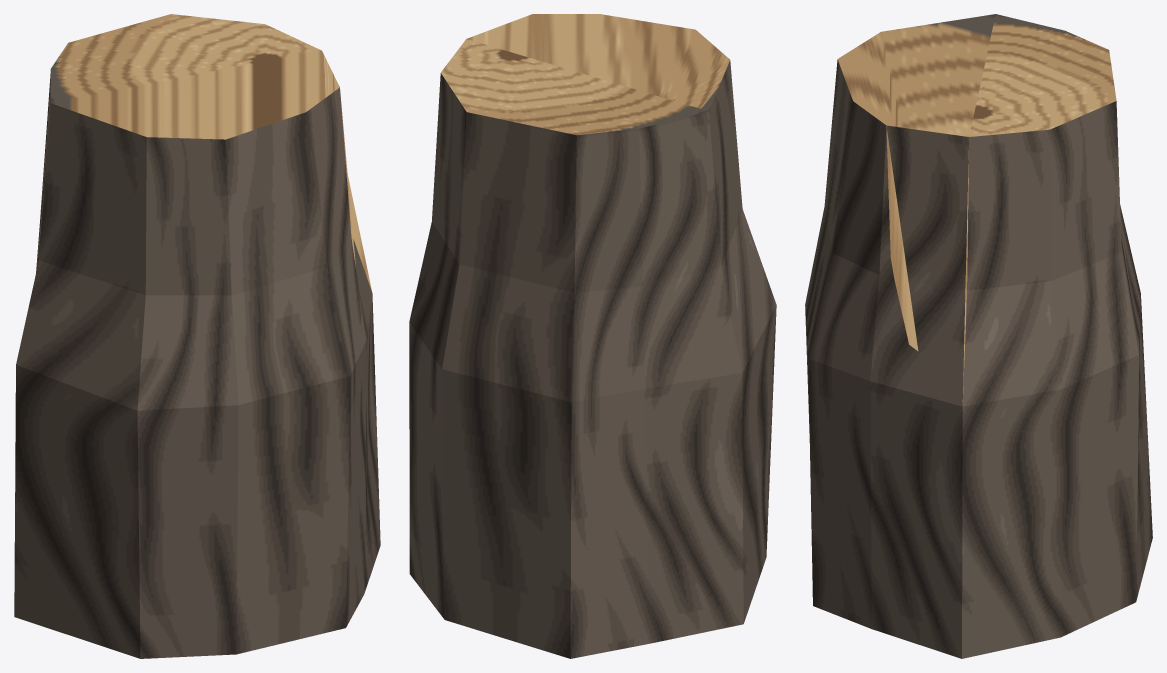
File: environment_fir3_stump_v1.fbx
3 renders of one model, left to right at view 1: azimuth 30°, elevation 25°; view 2: azimuth 150°, elevation 25°; view 3: azimuth 270°, elevation 25°, orthographic. The views are drawn at different scales.
Parts seen in each view (by area): view 1: environment_fir3_stump_v1; view 2: environment_fir3_stump_v1; view 3: environment_fir3_stump_v1.
Boxes of the visible parts, bbox=[...] form: environment_fir3_stump_v1: bbox=[14, 14, 380, 658]; environment_fir3_stump_v1: bbox=[409, 14, 776, 658]; environment_fir3_stump_v1: bbox=[805, 14, 1152, 658].
Bounding box in the file's own units: 144 × 200 × 127.
